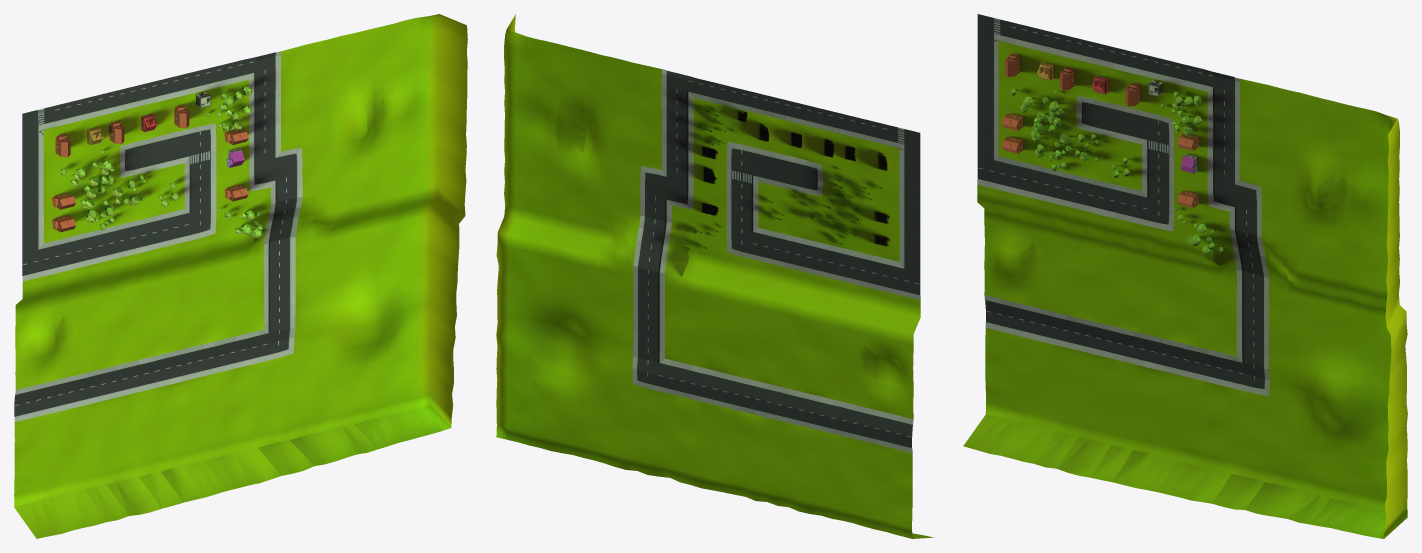
The model's file is city-block-2.obj.
3 views of the same model, side by side, from view 1: azimuth 30°, elevation 25°; view 2: azimuth 150°, elevation 25°; view 3: azimuth 330°, elevation 25° (orthographic).
Size of the model in its own units: 473 by 442 by 56.07.
